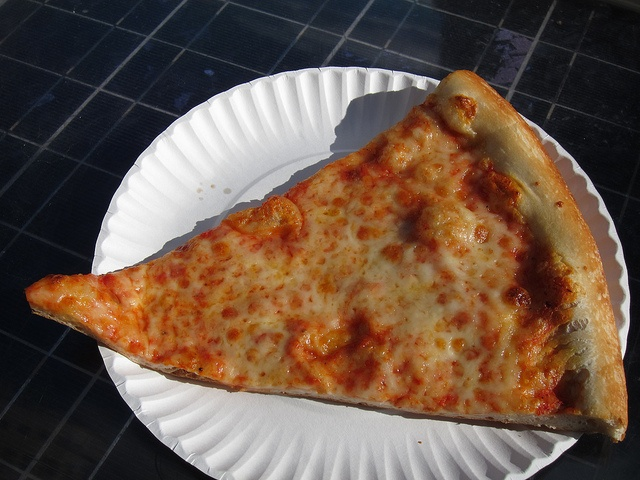Pizza: (26, 61, 632, 450)
